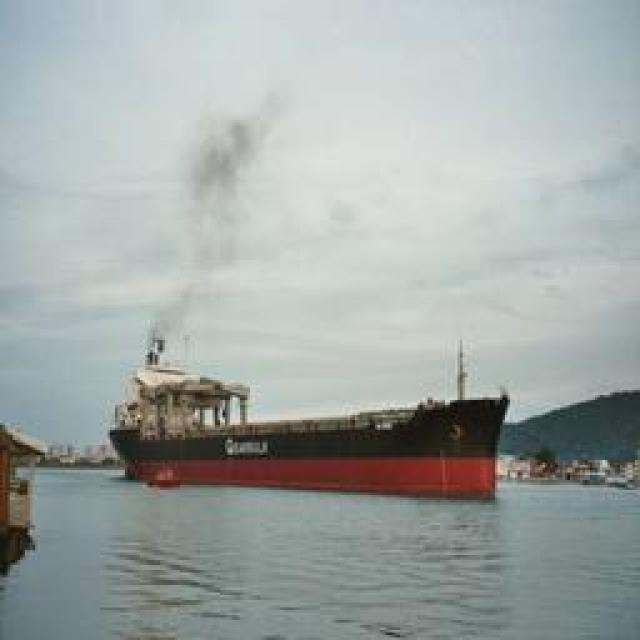Ship: (99, 328, 509, 503)
